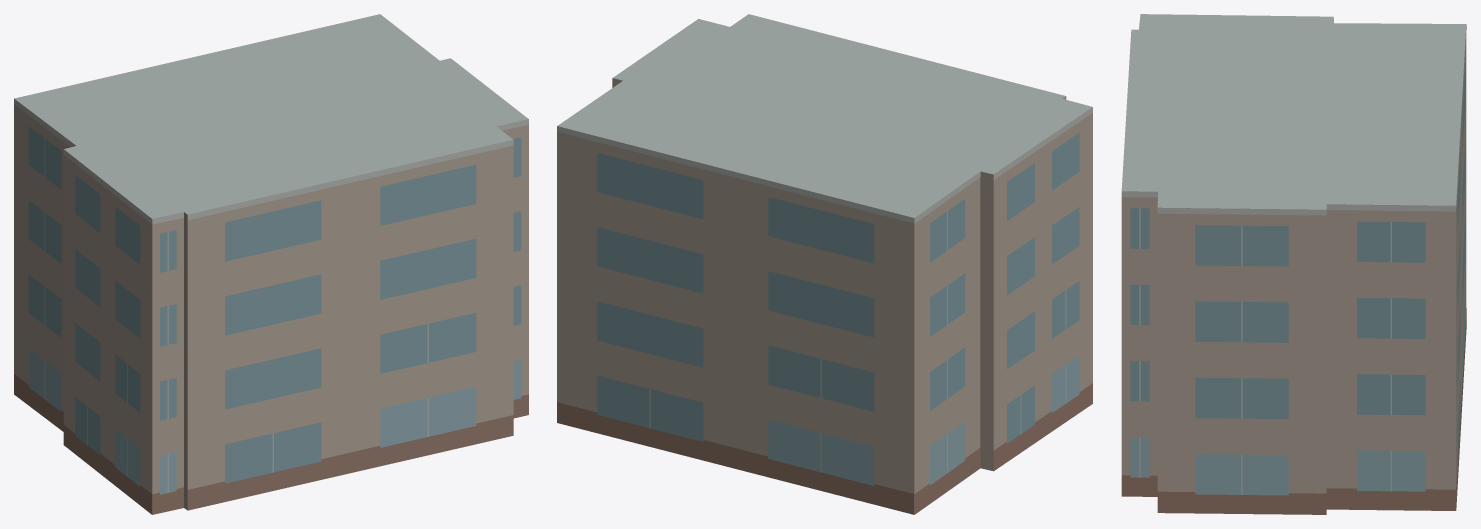
The model's file is survey-upis-32744789.glb.
3 renders of one model, left to right at view 1: azimuth 30°, elevation 25°; view 2: azimuth 150°, elevation 25°; view 3: azimuth 270°, elevation 25°, orthographic. The views are drawn at different scales.
Parts seen in each view (by area): view 1: survey-upis-32744789.tmp; view 2: survey-upis-32744789.tmp; view 3: survey-upis-32744789.tmp.
Boxes of the visible parts, x1,y1,x2,y2 form: survey-upis-32744789.tmp: (14, 14, 528, 514); survey-upis-32744789.tmp: (557, 14, 1092, 514); survey-upis-32744789.tmp: (1121, 14, 1466, 514).
Bounding box in the file's own units: 17.47 × 12.7 × 13.01.
